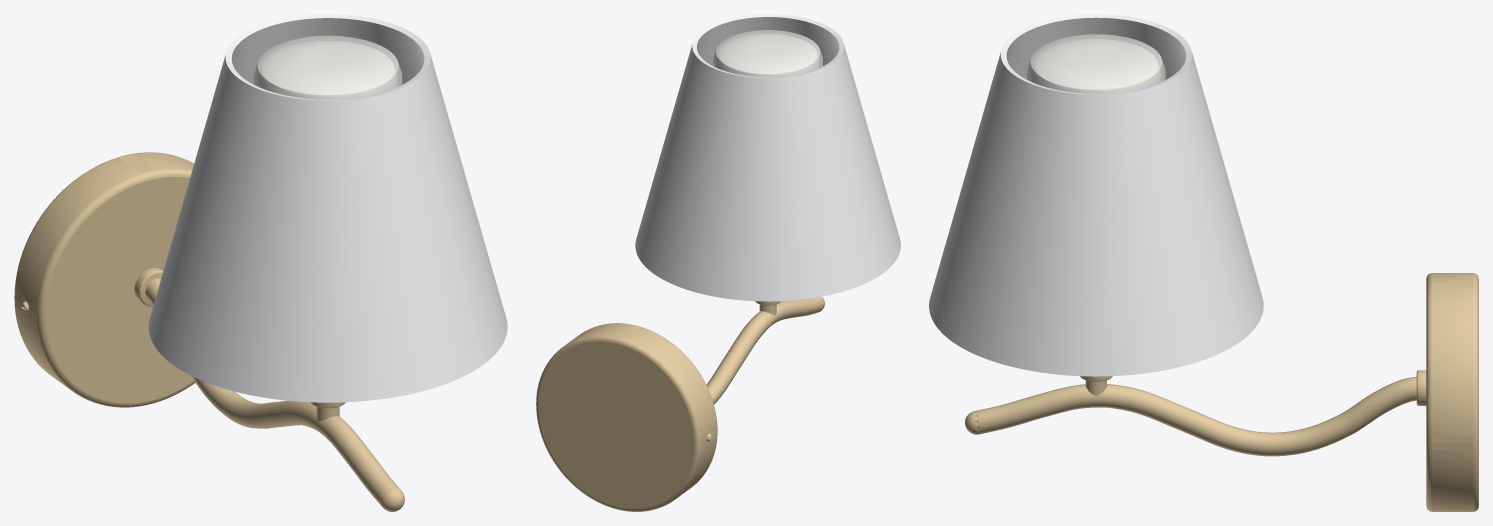
3 renders of one model, left to right at view 1: azimuth 30°, elevation 25°; view 2: azimuth 150°, elevation 25°; view 3: azimuth 270°, elevation 25°, orthographic. The views are drawn at different scales.
Visible parts, largest first — view 1: glass, metal, frost; view 2: glass, metal, frost; view 3: glass, metal, frost.
Boxes of the visible parts, x1,y1,x2,y2 form: glass: [148, 14, 507, 402]; metal: [14, 152, 404, 511]; frost: [253, 35, 402, 99]; glass: [635, 14, 900, 301]; metal: [536, 296, 824, 511]; frost: [713, 30, 822, 77]; glass: [929, 14, 1263, 376]; metal: [965, 273, 1478, 511]; frost: [1027, 34, 1165, 93].
Size of the model in its own units: 0.14 by 0.206 by 0.23.
